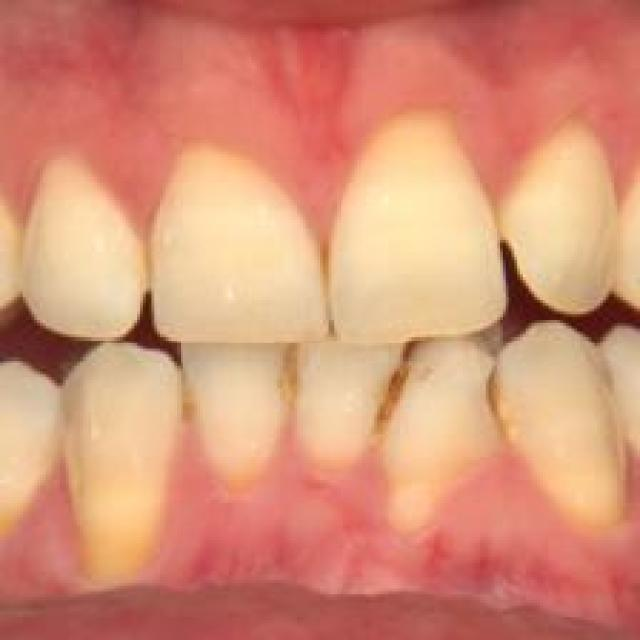karies: (369, 334, 414, 434), (477, 360, 520, 431), (280, 343, 306, 411), (131, 228, 160, 288), (314, 237, 340, 297), (169, 374, 200, 420)
